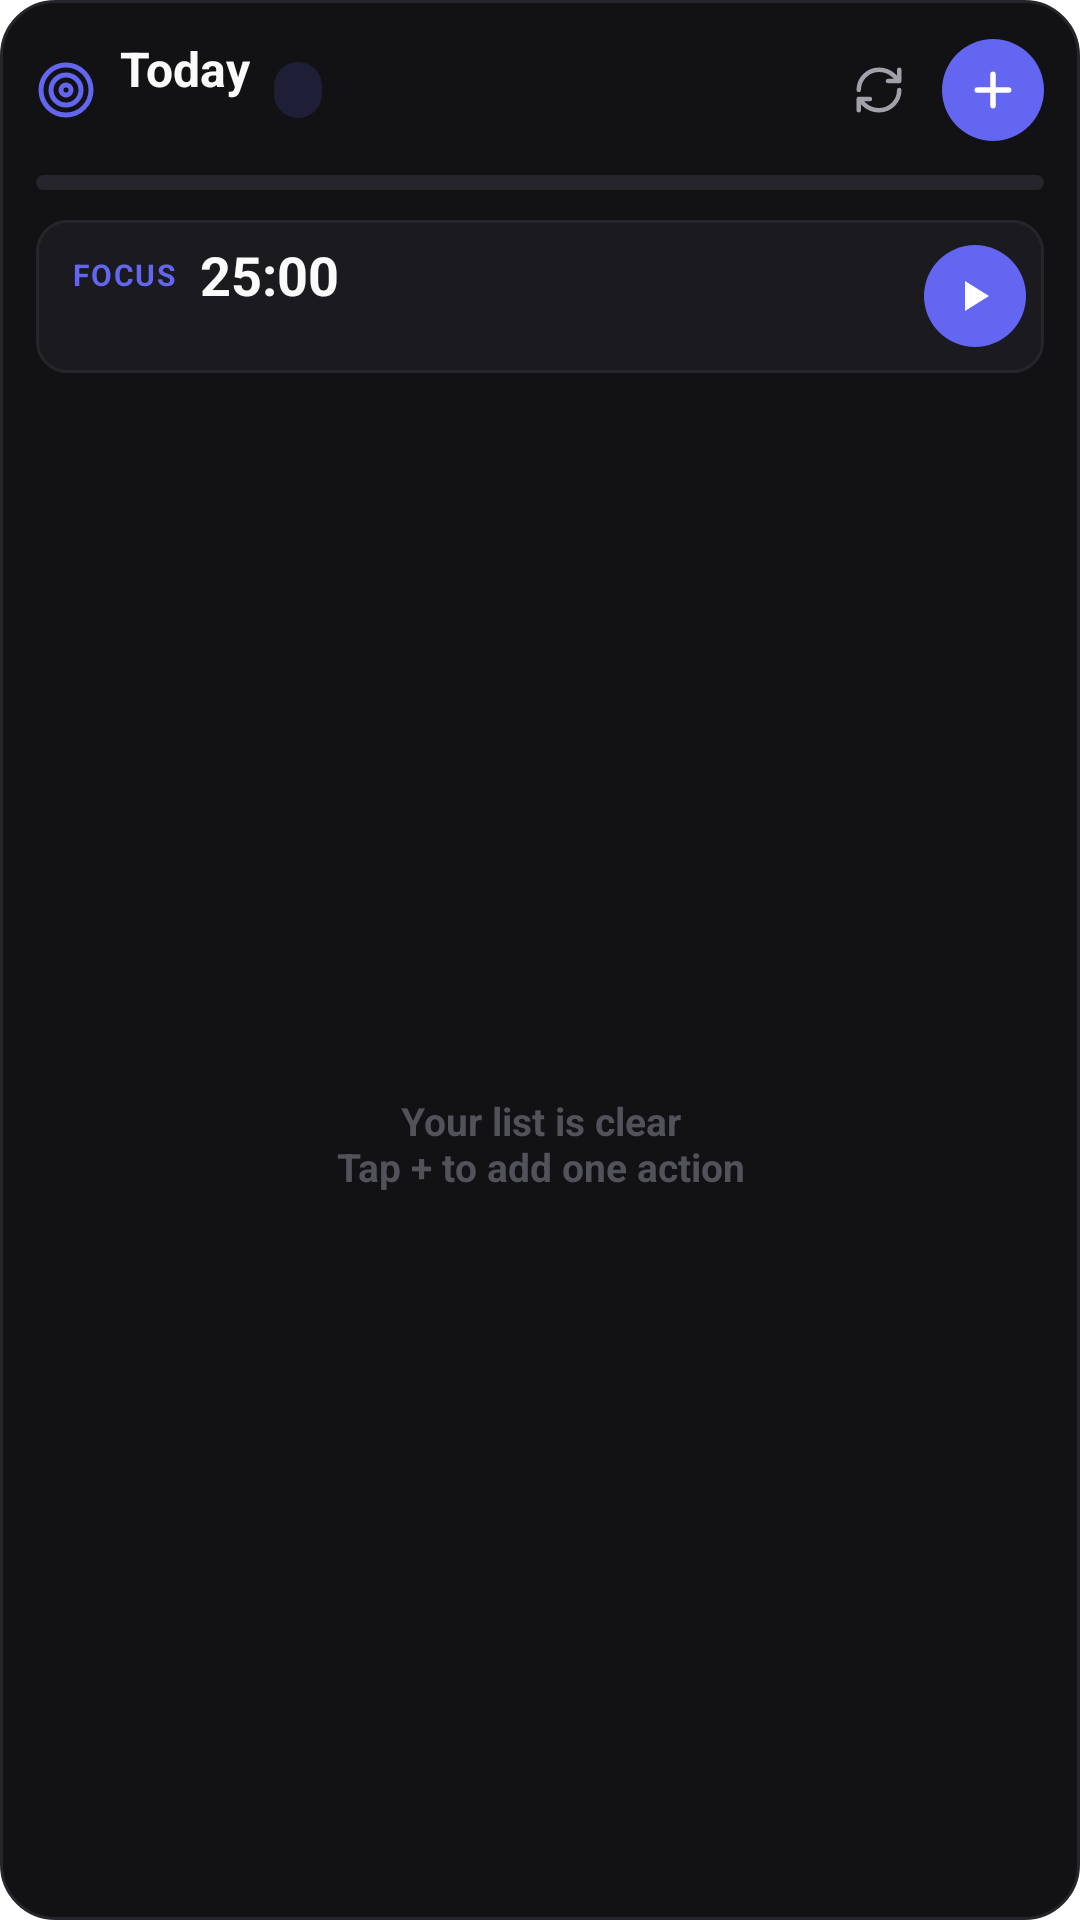

Where icons sit on this 1080px x 1920px app screen, as (left=x1, top=y1, right=x2, bottom=y2):
Add task: (left=942, top=39, right=1044, bottom=141)
Refresh: (left=856, top=67, right=902, bottom=113)
Start or pause the focus timer: (left=924, top=245, right=1026, bottom=347)
widget target: (left=38, top=62, right=94, bottom=118)
